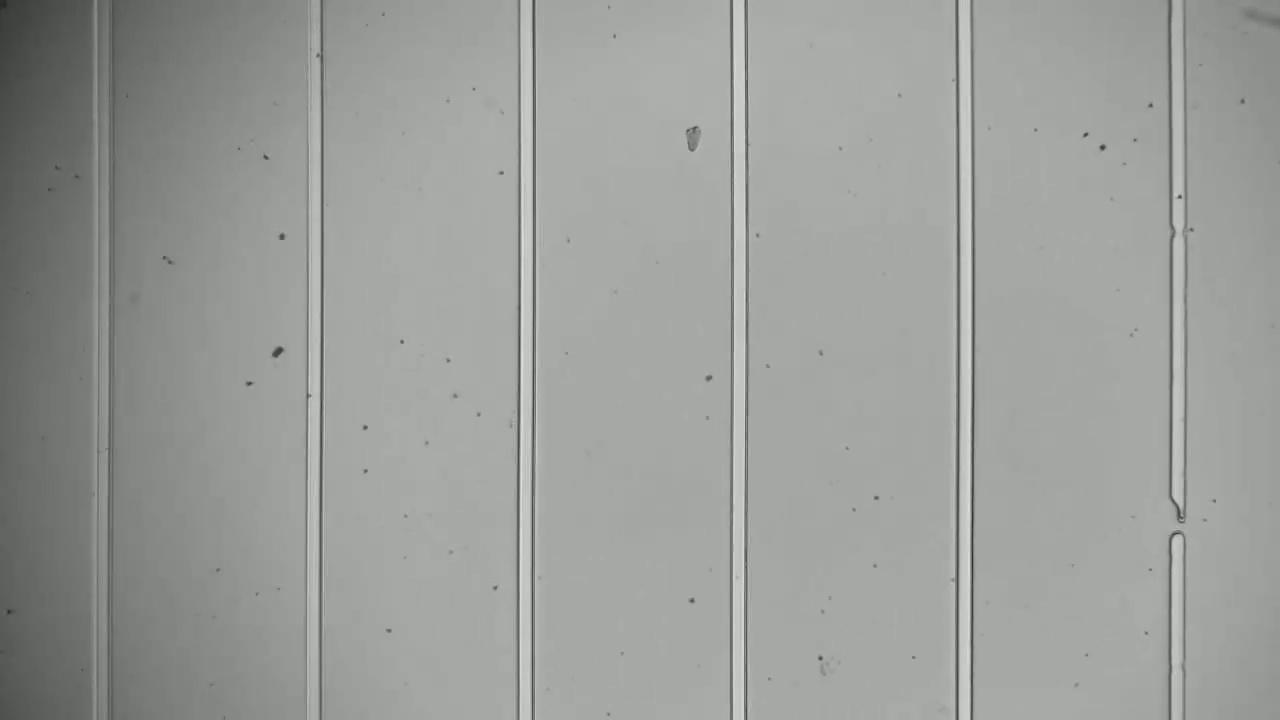edge_bite: (1164, 214, 1194, 249)
open: (1159, 491, 1195, 548)
